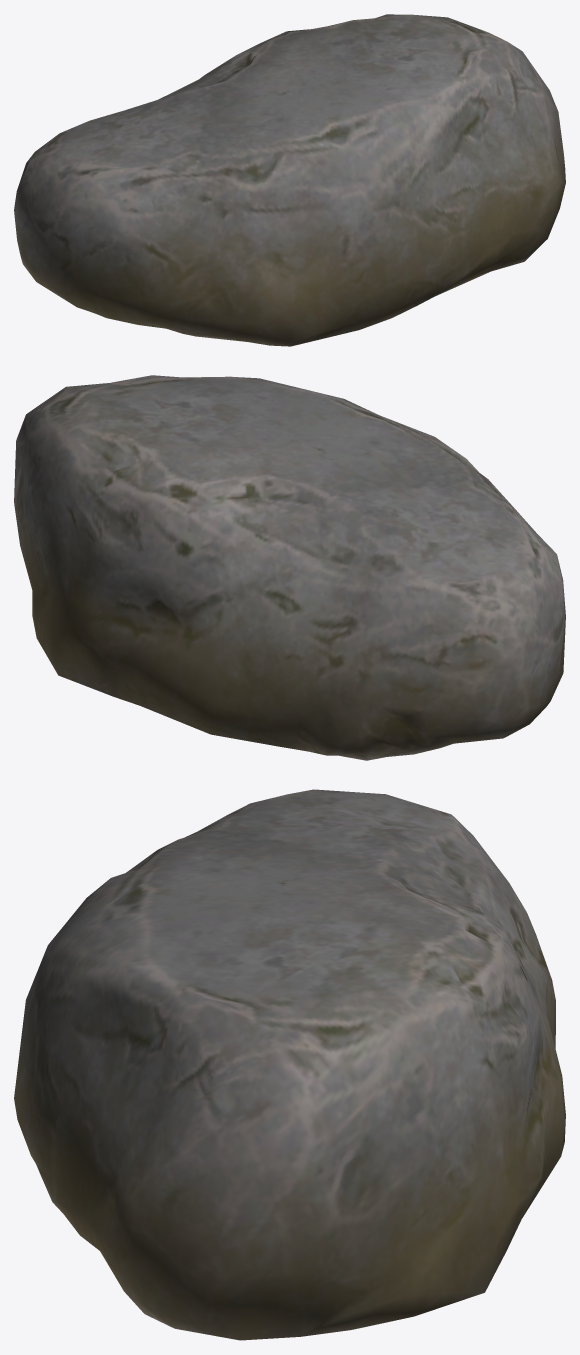
File: Rock3.fbx
The picture shows the model from 3 angles, top to bottom: view 1: azimuth 30°, elevation 25°; view 2: azimuth 150°, elevation 25°; view 3: azimuth 270°, elevation 25°; orthographic projection. The views are drawn at different scales.
Parts seen in each view (by area): view 1: SM_cmn_mount_GardenRock_01c; view 2: SM_cmn_mount_GardenRock_01c; view 3: SM_cmn_mount_GardenRock_01c.
Boxes of the visible parts, box(x1,y1,x2,y2) form: SM_cmn_mount_GardenRock_01c: box(14, 14, 565, 346); SM_cmn_mount_GardenRock_01c: box(14, 375, 565, 760); SM_cmn_mount_GardenRock_01c: box(14, 789, 565, 1340).
Bounding box in the file's own units: 68.81 × 26.88 × 43.62.
